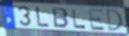3: (17, 5, 32, 28)
B: (51, 7, 70, 29)
D: (106, 9, 124, 33)
E: (88, 8, 107, 32)
L: (71, 8, 87, 30), (35, 6, 51, 28)
